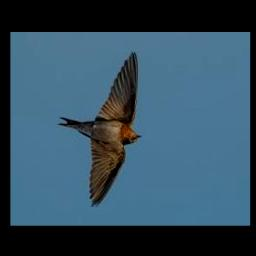Swallow: (59, 52, 143, 208)
